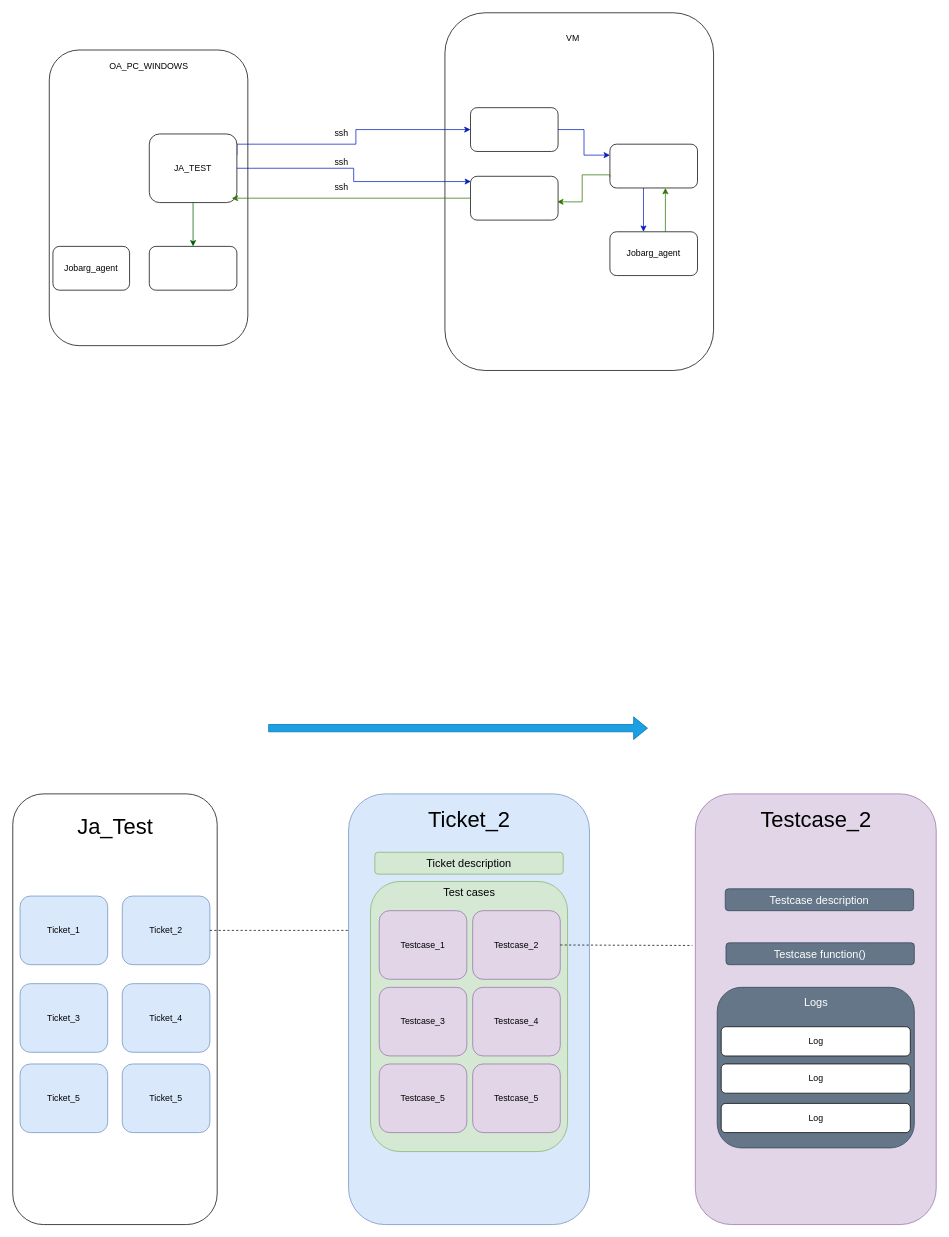
Image size: 949x1237. Some labels were removed from this diagram. Each missing label, with the box of its shape:
JA_EXEC: (470, 107, 558, 151)
JA_GET_INFO: (470, 176, 558, 220)
Jobarg_server: (609, 143, 698, 188)
Log file: (149, 246, 237, 290)
